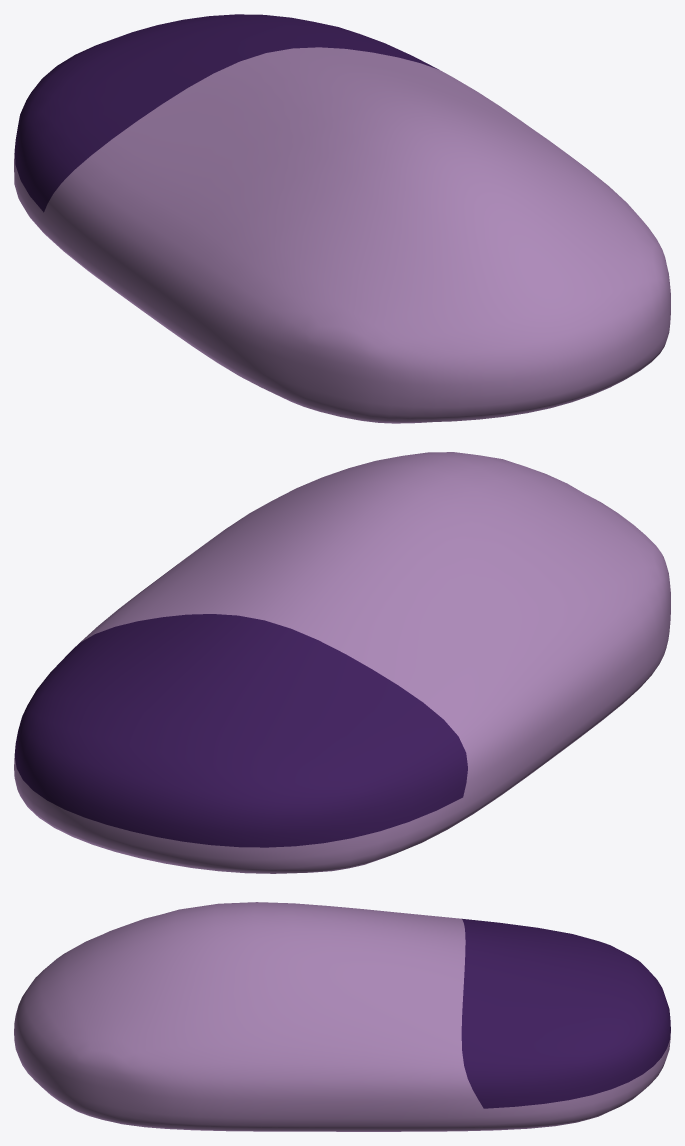
Rendered from Raton.fbx.
3 renders of one model, top to bottom at view 1: azimuth 30°, elevation 25°; view 2: azimuth 150°, elevation 25°; view 3: azimuth 270°, elevation 25°, orthographic. The views are drawn at different scales.
Visible parts, largest first — view 1: Raton.001; view 2: Raton.001; view 3: Raton.001.
Part boxes in pixels (<box>): Raton.001: <box>14,14,670,423</box>; Raton.001: <box>14,452,670,873</box>; Raton.001: <box>14,902,670,1131</box>.
Bounding box in the file's own units: 0.0566 × 0.0249 × 0.0986.
